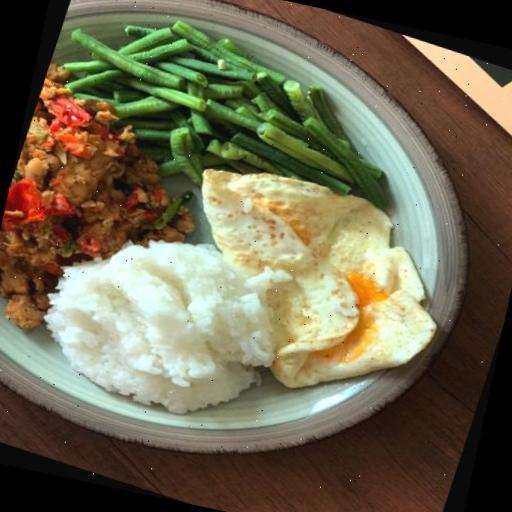buncis_rebus: (34, 0, 433, 222)
nasi_putih: (20, 197, 307, 448)
